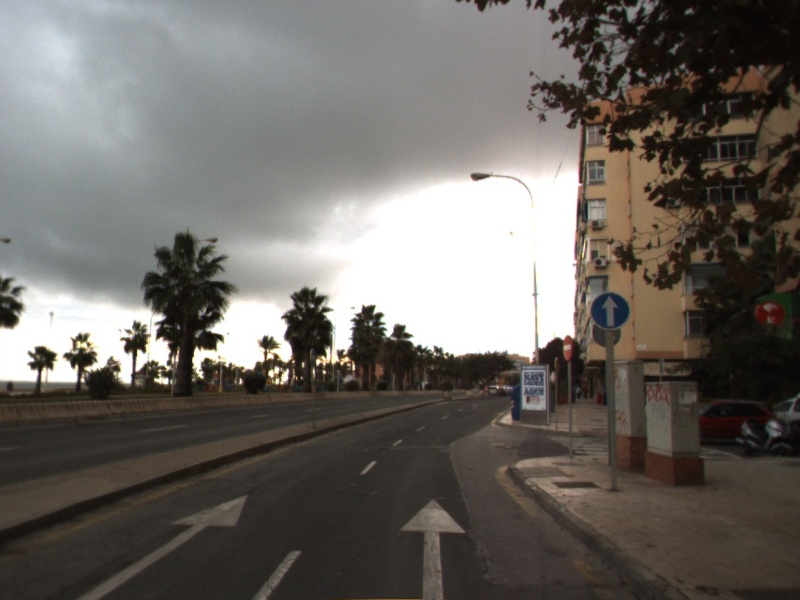STRAIGHT: (73, 492, 250, 600), (397, 497, 468, 600)
